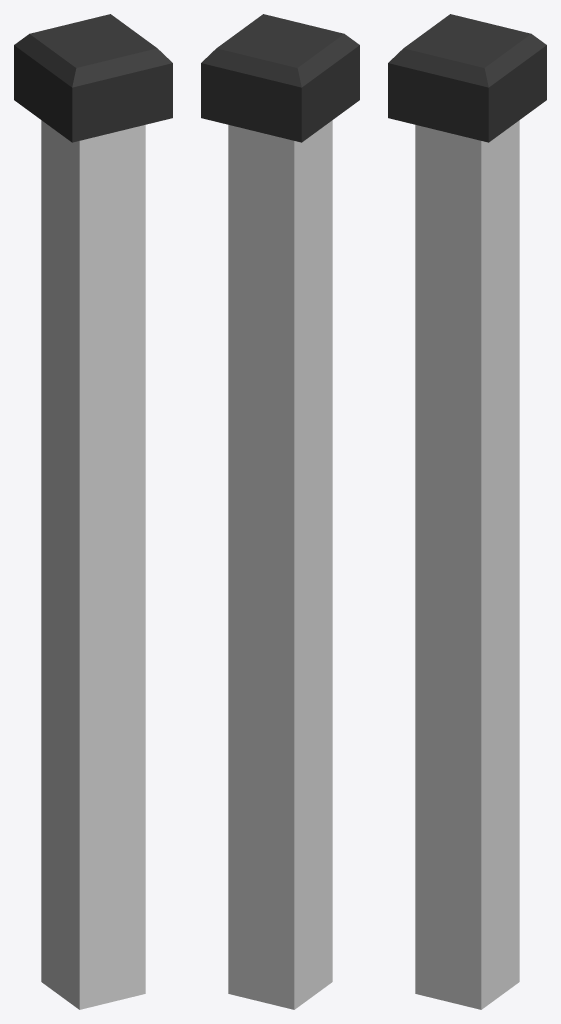
The model's file is StairsPart2_C3.fbx.
3 views of the same model, side by side, from view 1: azimuth 30°, elevation 25°; view 2: azimuth 150°, elevation 25°; view 3: azimuth 330°, elevation 25° (orthographic).
Visible parts, largest first — view 1: StairsPart2_C3; view 2: StairsPart2_C3; view 3: StairsPart2_C3.
Part boxes in pixels (x1,y1,x2,y2): StairsPart2_C3: (14, 14, 172, 1009); StairsPart2_C3: (201, 14, 359, 1009); StairsPart2_C3: (388, 14, 546, 1009).
Bounding box in the file's own units: 11.02 × 98.99 × 11.02.
